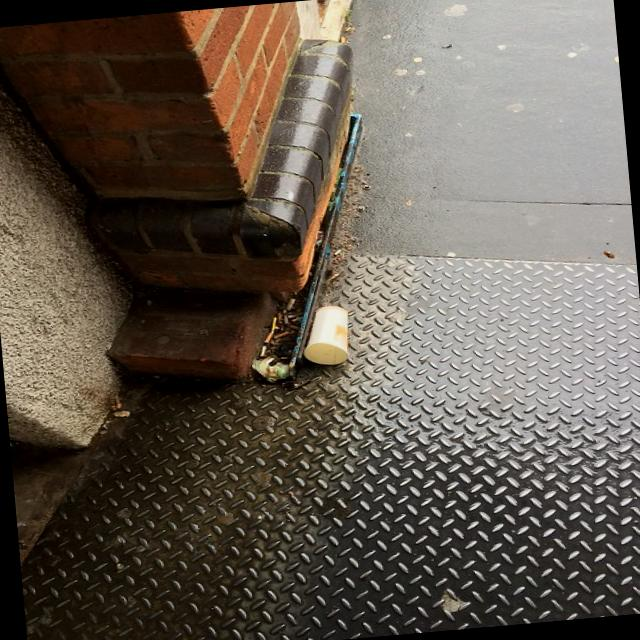Recycle: (296, 302, 358, 369)
Trash: (255, 356, 292, 383), (109, 394, 129, 416), (444, 596, 467, 614)
